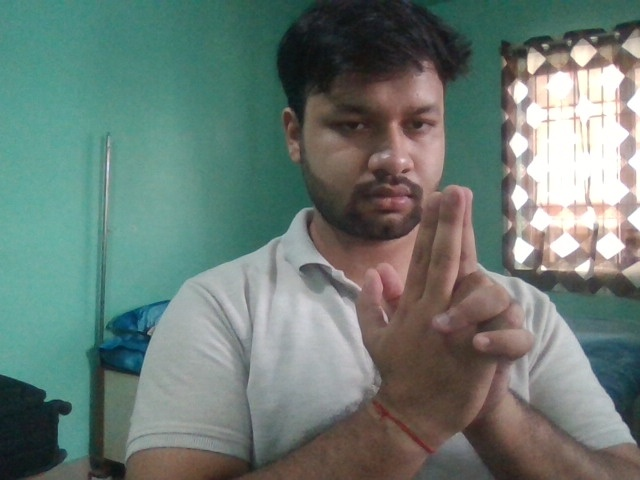1000 Years of Death: (353, 180, 539, 458)
